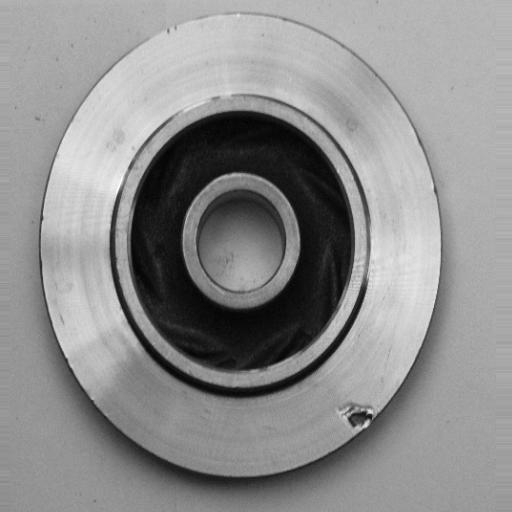crack: (325, 400, 396, 443)
unpolished_casting: (40, 13, 443, 484)
